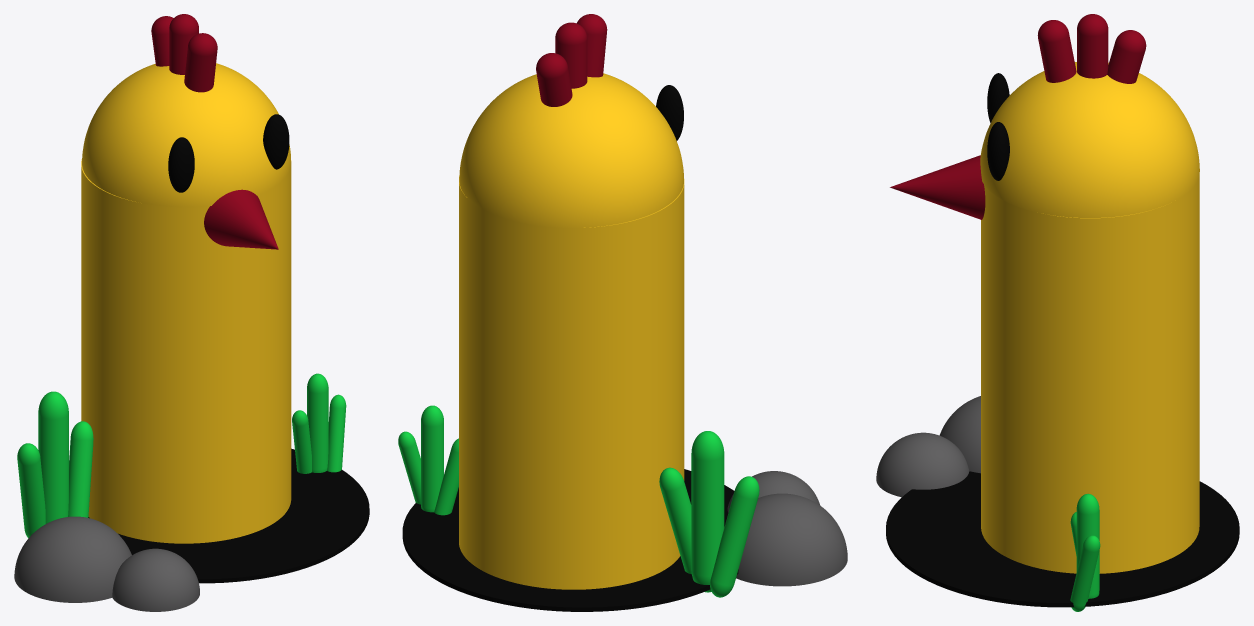
The model's file is ChickenHole.fbx.
3 renders of one model, left to right at view 1: azimuth 30°, elevation 25°; view 2: azimuth 150°, elevation 25°; view 3: azimuth 270°, elevation 25°, orthographic. The views are drawn at different scales.
Parts seen in each view (by area): view 1: node_id182 (×8), root (×3), node_id166 (×3), node_id157 (×3); view 2: node_id182 (×6), root (×3), node_id166 (×3), node_id157 (×3); view 3: node_id182 (×8), root (×3), node_id157 (×2).
Boxes of the visible parts, x1,y1,x2,y2 form: node_id182 (×8): (81, 14, 291, 543); root (×3): (14, 448, 369, 611); node_id166 (×3): (17, 391, 93, 538); node_id157 (×3): (292, 373, 346, 473); node_id182 (×6): (459, 14, 684, 589); root (×3): (402, 469, 847, 611); node_id166 (×3): (659, 431, 759, 597); node_id157 (×3): (398, 405, 458, 515); node_id182 (×8): (890, 14, 1199, 573); root (×3): (876, 396, 1239, 607); node_id157 (×2): (1070, 493, 1100, 611).
Bounding box in the file's own units: 0.1511 × 0.1956 × 0.123.
Materials: 12 (12 with a texture image).
